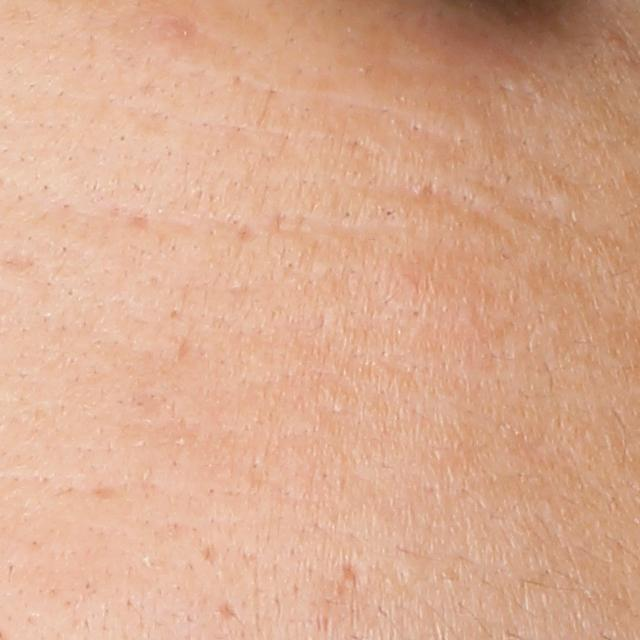atrophic_scar: (338, 559, 375, 586), (126, 205, 155, 234), (214, 598, 244, 623), (236, 215, 258, 245)
comedo: (547, 186, 577, 217)
